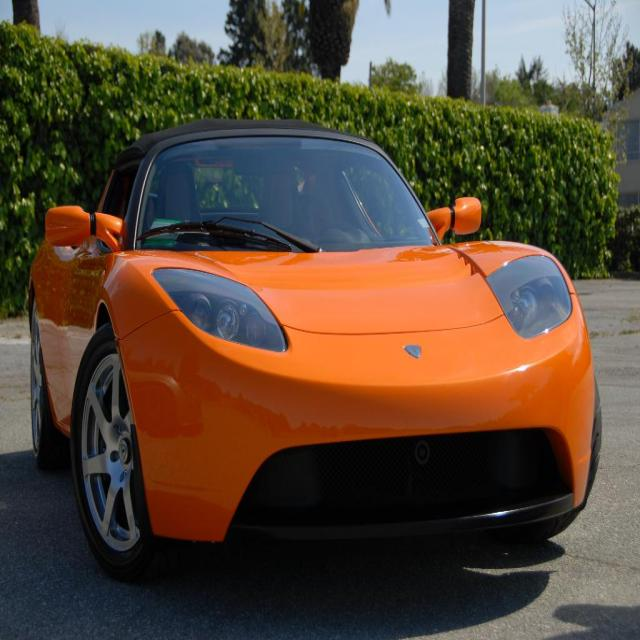car: (27, 118, 601, 574)
